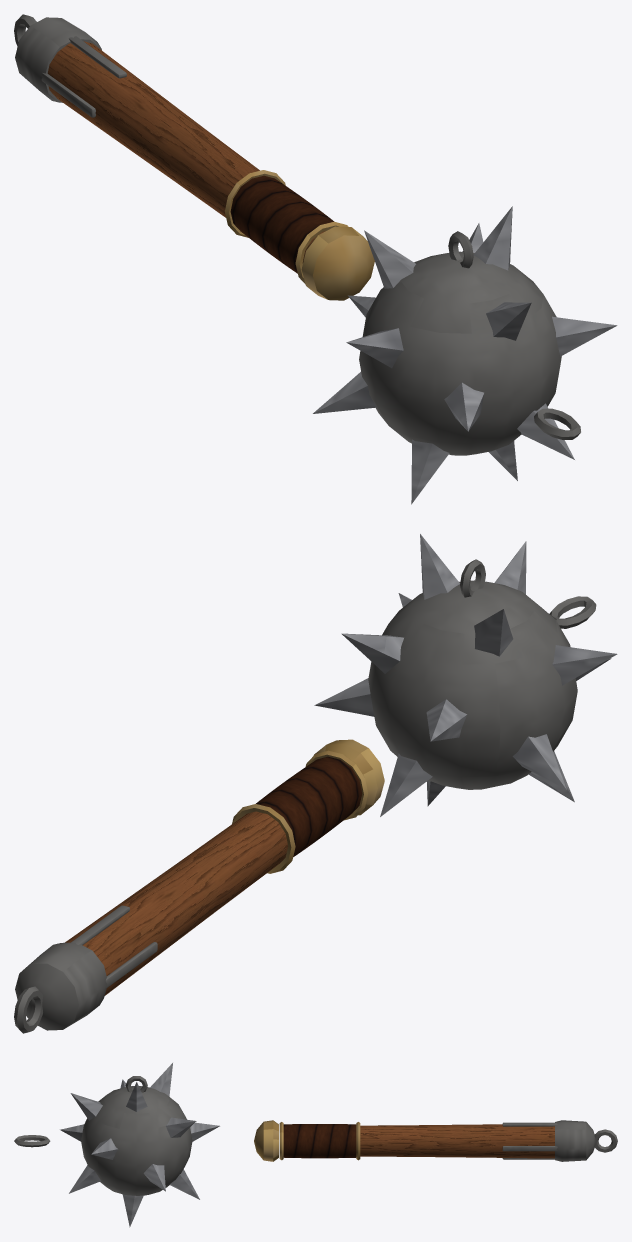
File: flail.glb
The picture shows the model from 3 angles, top to bottom: view 1: azimuth 30°, elevation 25°; view 2: azimuth 150°, elevation 25°; view 3: azimuth 270°, elevation 25°; orthographic projection. The views are drawn at different scales.
Parts seen in each view (by area): view 1: ball, flail, link; view 2: ball, flail, link; view 3: flail, ball, link.
Boxes of the visible parts, box(x1,y1,x2,y2) form: ball: box(313, 206, 617, 504); flail: box(14, 14, 374, 300); link: box(534, 408, 580, 439); ball: box(314, 534, 617, 816); flail: box(14, 739, 384, 1033); link: box(549, 596, 596, 628); flail: box(254, 1120, 617, 1161); ball: box(60, 1063, 219, 1227); link: box(14, 1135, 50, 1147).
Size of the model in its own units: 0.2297 by 0.2321 by 0.8667.
Materials: 5 (5 with a texture image).
